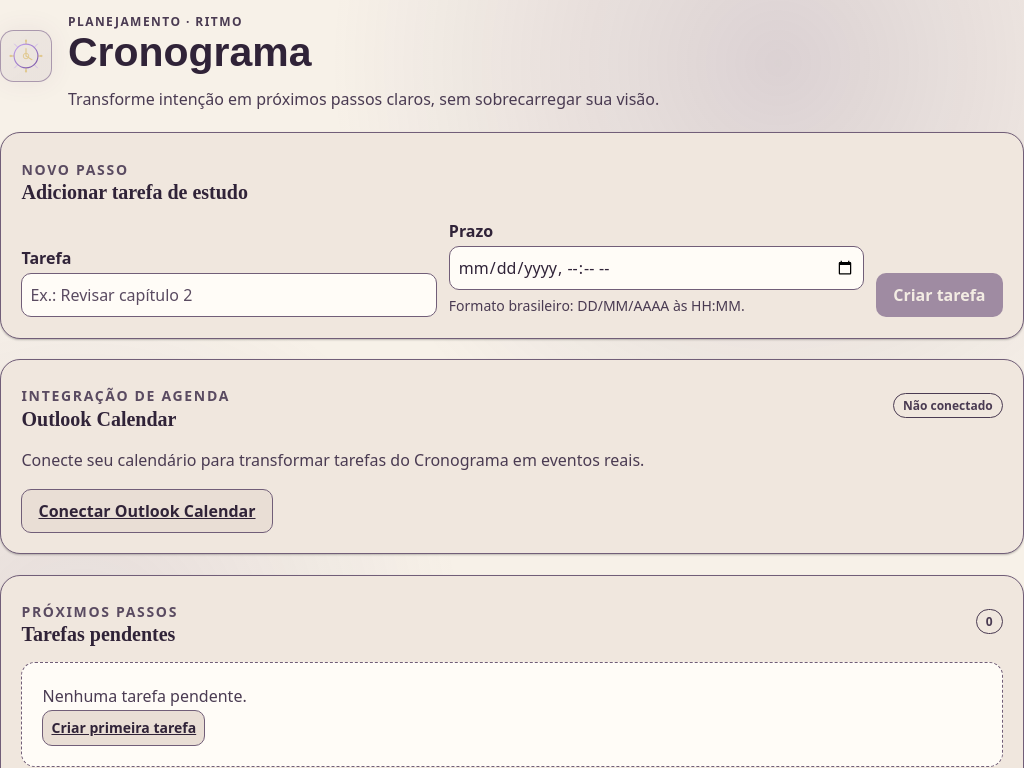
it: pending task mutations › coalesces repeated form submissions while creation is pending
Step 1. Type "Revisão sintética" into the field labelled "Tarefa" → [229, 295], box [22,273,437,317]
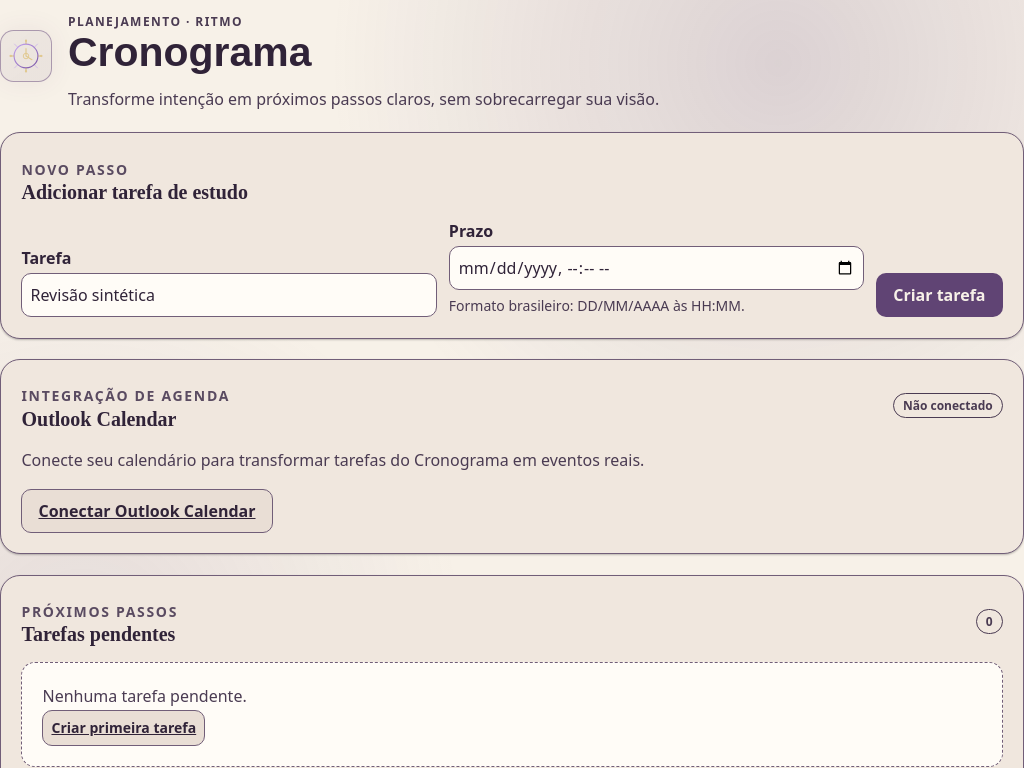
Step 2. Submit the form named "Adicionar tarefa de estudo", box [22,220,1003,317]
Step 3. Submit the form named "Adicionar tarefa de estudo", box [22,220,1003,317]
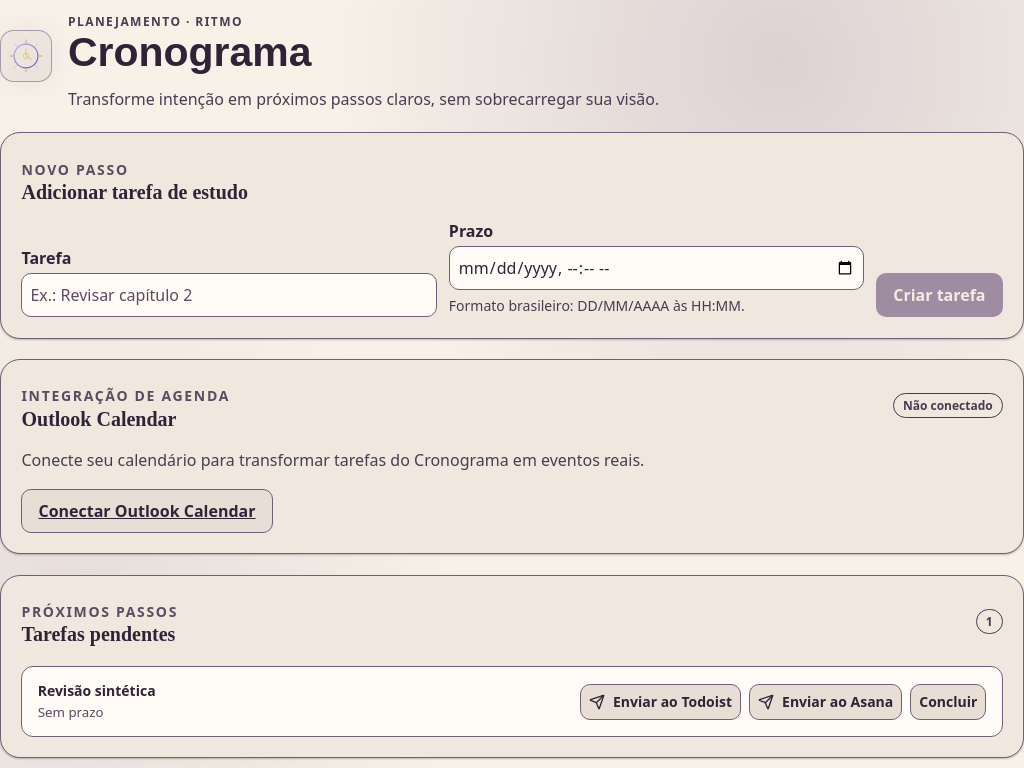
Check: the text "Revisão sintética" is shown once, box [38,681,156,700]
